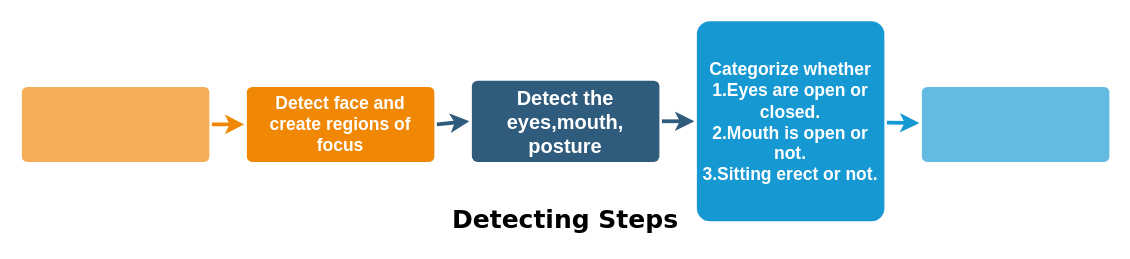
This 1130x259 diagram has some shape labels left out. Here are the shapes that lost their labels. From the top down, the centre of each, then its label:
the point at 115,123: Take image as input from camera
the point at 1015,123: Detect whether person is drowsy or not.
